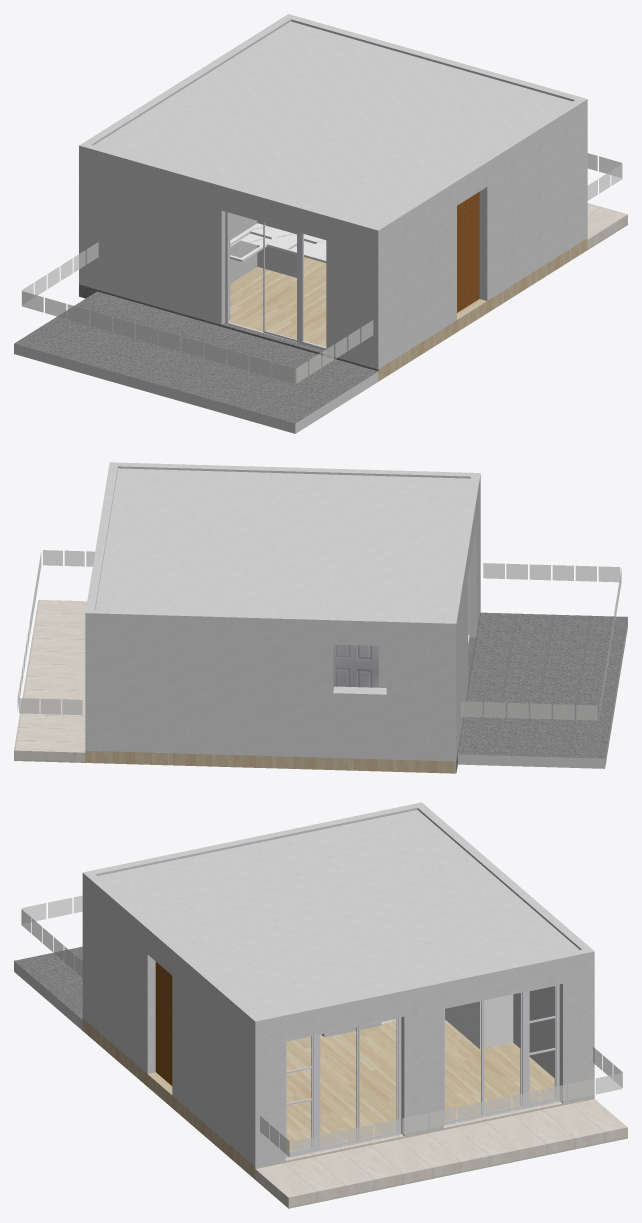
Rendered from Collison on.glb.
3 renders of one model, top to bottom at view 1: azimuth 30°, elevation 25°; view 2: azimuth 150°, elevation 25°; view 3: azimuth 270°, elevation 25°, orthographic. The views are drawn at different scales.
Parts seen in each view (by area): view 1: Component#38, Component#23, Component#4, Component#1, object 24, Component#24, Component#77, Component#128, Component#2, object 25, Component#72; view 2: Component#38, Component#23, Component#4, Component#2, Component#24, Component#1, object 24, object 25, Component#79; view 3: Component#38, Component#23, Component#1, Component#2, object 25, Component#24, Component#4, Component#140, Component#77, object 24, Component#61, Component#52 (+6 smaller).
Part boxes in pixels (<box>): Component#38: <box>79,14,587,369</box>; Component#23: <box>171,25,564,223</box>; Component#4: <box>14,291,378,433</box>; Component#1: <box>79,238,587,381</box>; object 24: <box>21,242,373,383</box>; Component#24: <box>101,104,251,169</box>; Component#77: <box>457,192,479,312</box>; Component#128: <box>230,223,326,262</box>; Component#2: <box>587,203,627,249</box>; object 25: <box>587,153,622,200</box>; Component#72: <box>225,211,299,343</box>; Component#38: <box>85,462,480,761</box>; Component#23: <box>102,471,463,615</box>; Component#4: <box>458,612,627,768</box>; Component#2: <box>14,600,86,762</box>; Component#24: <box>324,572,448,618</box>; Component#1: <box>85,612,480,773</box>; object 24: <box>461,563,621,720</box>; object 25: <box>17,550,94,715</box>; Component#79: <box>334,644,378,687</box>; Component#38: <box>82,802,594,1166</box>; Component#23: <box>105,835,571,1014</box>; Component#1: <box>82,1018,594,1179</box>; Component#2: <box>255,1099,627,1208</box>; object 25: <box>260,1047,622,1157</box>; Component#24: <box>318,814,468,880</box>; Component#4: <box>14,946,82,1030</box>; Component#140: <box>445,994,513,1049</box>; Component#77: <box>155,961,172,1085</box>; object 24: <box>21,895,82,977</box>; Component#61: <box>525,984,559,1107</box>; Component#52: <box>316,1017,401,1150</box>.
Bounding box in the file's own units: 11.39 × 2.78 × 9.75.
Materials: 13 (12 with a texture image).
